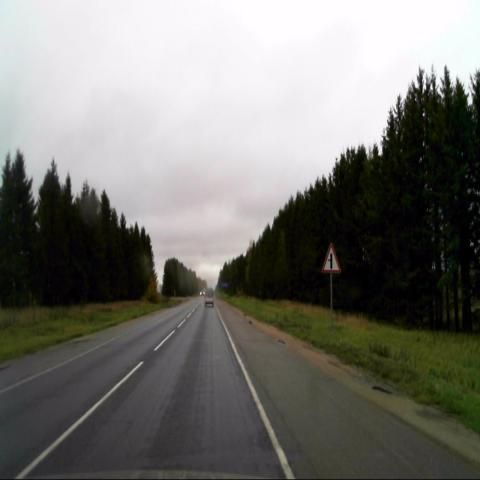2_3_3: (321, 241, 341, 273)
